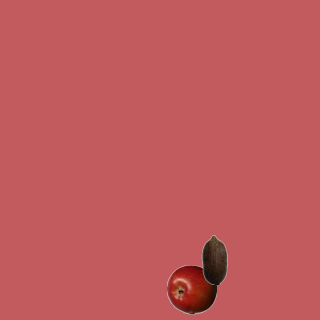Apple Braeburn: (166, 264, 216, 314)
Nut Pecan: (189, 234, 239, 284)
